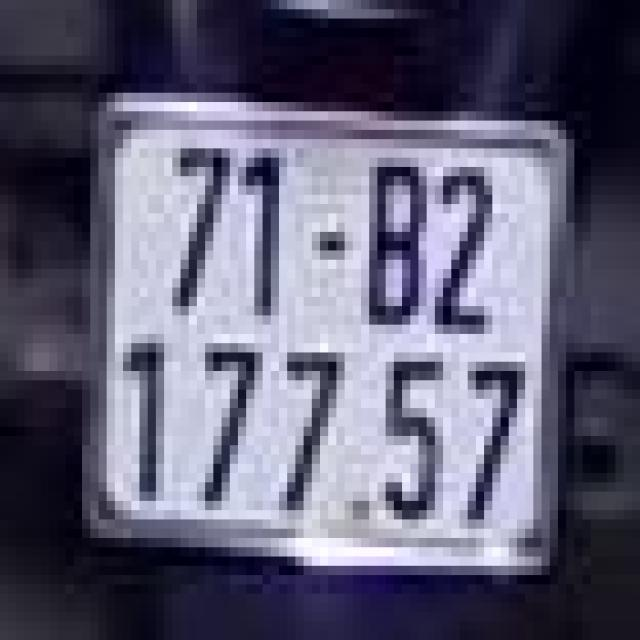1: (111, 320, 176, 515), (234, 144, 283, 329)
2: (439, 148, 505, 344)
5: (382, 343, 447, 538)
7: (188, 329, 270, 524), (160, 144, 234, 320), (456, 362, 530, 528), (279, 339, 345, 524)
B: (365, 153, 431, 329)
